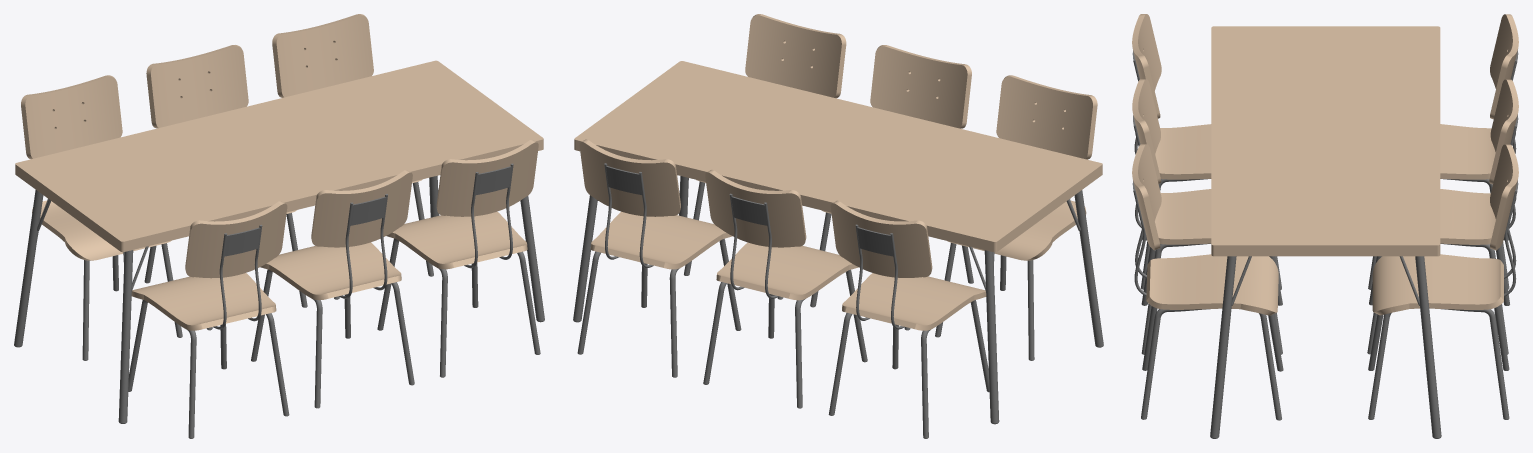
Rendered from 570_ダイニングテーブルセット6人掛け.glb.
3 views of the same model, side by side, from view 1: azimuth 30°, elevation 25°; view 2: azimuth 150°, elevation 25°; view 3: azimuth 270°, elevation 25° (orthographic). The views are drawn at different scales.
Visible parts, largest first — view 1: Body, chair4, chair6, chair5, chair1, chair2, chair3; view 2: Body, chair1, chair3, chair2, chair4, chair5, chair6; view 3: Body, chair3, chair6, chair5, chair2, chair4, chair1.
Part boxes in pixels (box(x1,y1,x2,y2)): Body: box(14, 60, 544, 423); chair4: box(128, 201, 289, 438); chair6: box(377, 139, 540, 377); chair5: box(251, 170, 414, 408); chair1: box(21, 75, 182, 360); chair2: box(144, 45, 307, 330); chair3: box(272, 14, 433, 299); Body: box(573, 61, 1103, 424); chair1: box(828, 200, 989, 438); chair3: box(577, 139, 741, 377); chair2: box(703, 170, 867, 408); chair4: box(935, 75, 1097, 360); chair5: box(810, 45, 973, 330); chair6: box(684, 14, 846, 299); Body: box(1210, 26, 1441, 438); chair3: box(1368, 144, 1518, 419); chair6: box(1132, 144, 1283, 420); chair5: box(1132, 79, 1282, 354); chair2: box(1367, 79, 1518, 354); chair4: box(1132, 14, 1281, 289); chair1: box(1368, 14, 1518, 289).
Size of the model in its own units: 1.71 by 0.8281 by 1.27.
